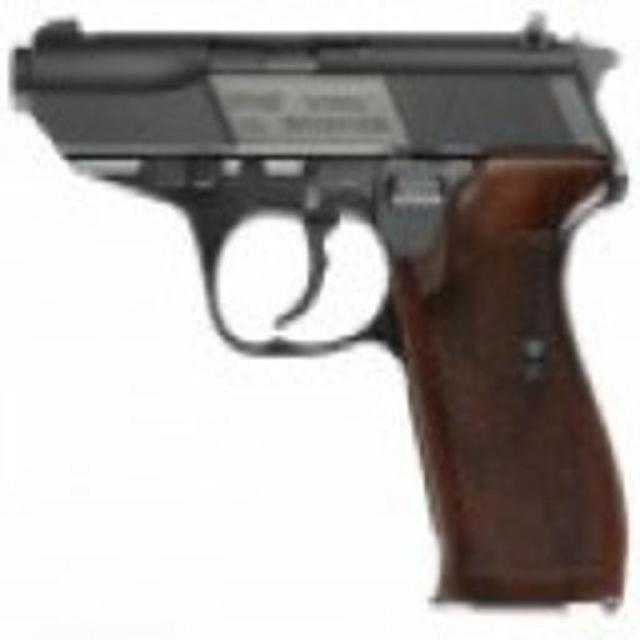pistol: (11, 10, 631, 607)
